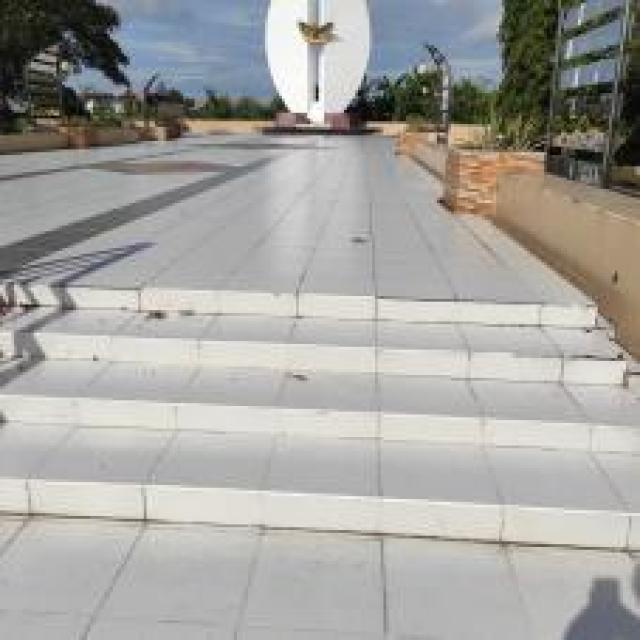upstair: (7, 258, 638, 576)
